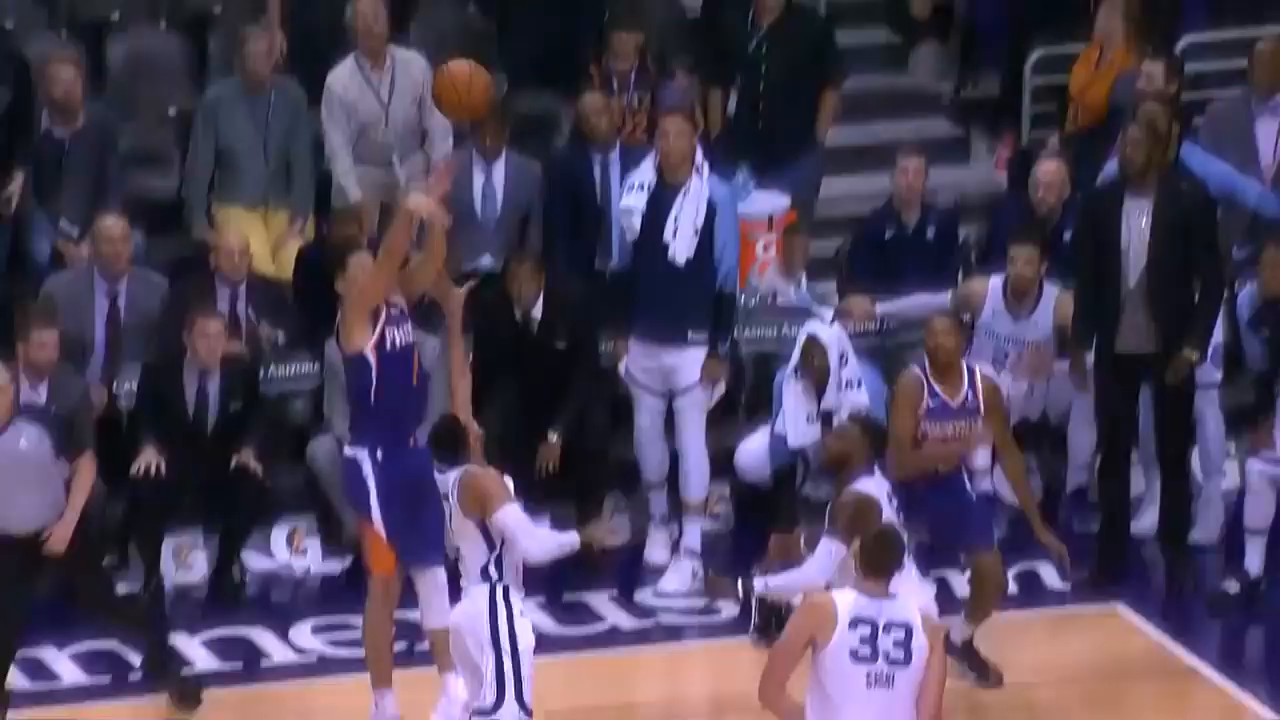ball: (433, 58, 498, 123)
